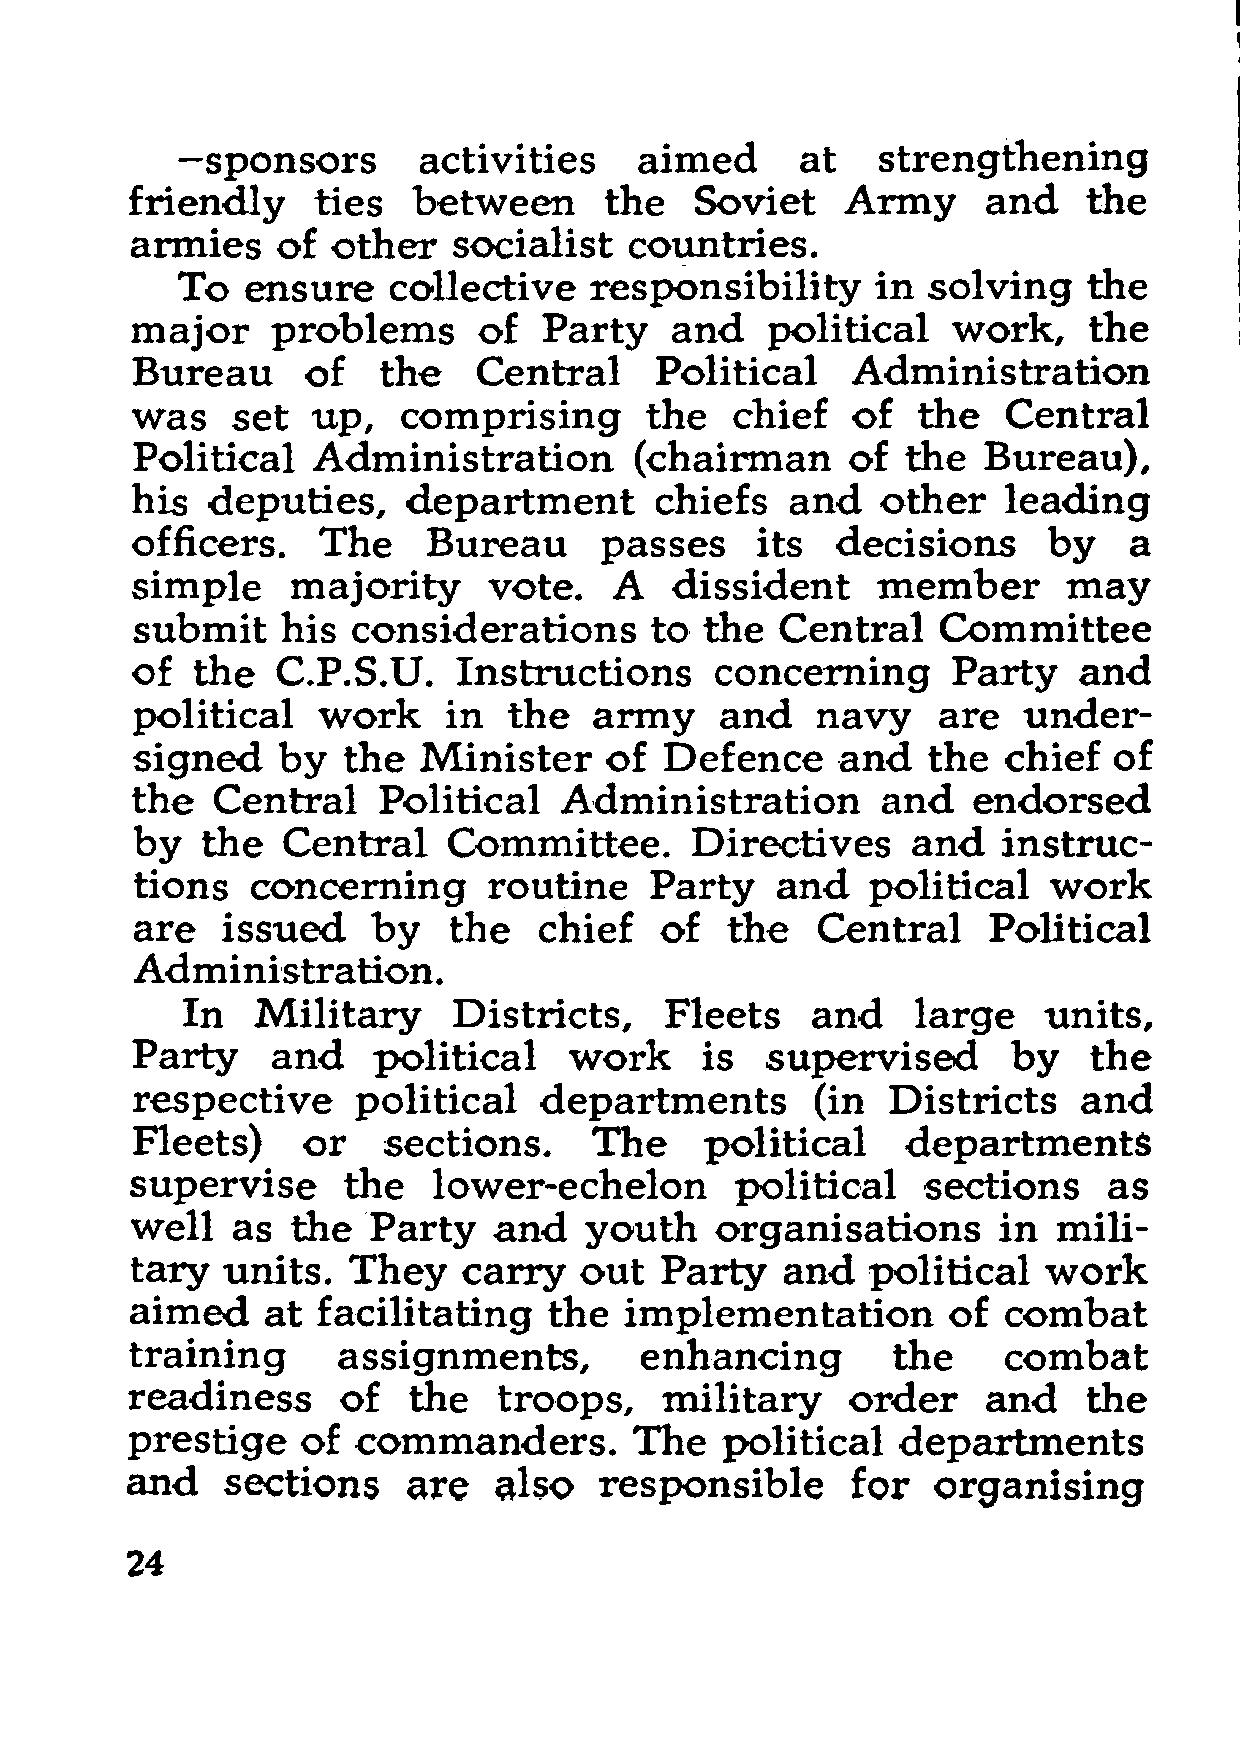content: (119, 136, 1155, 1508)
content_pagenumber: (119, 1545, 169, 1581)
